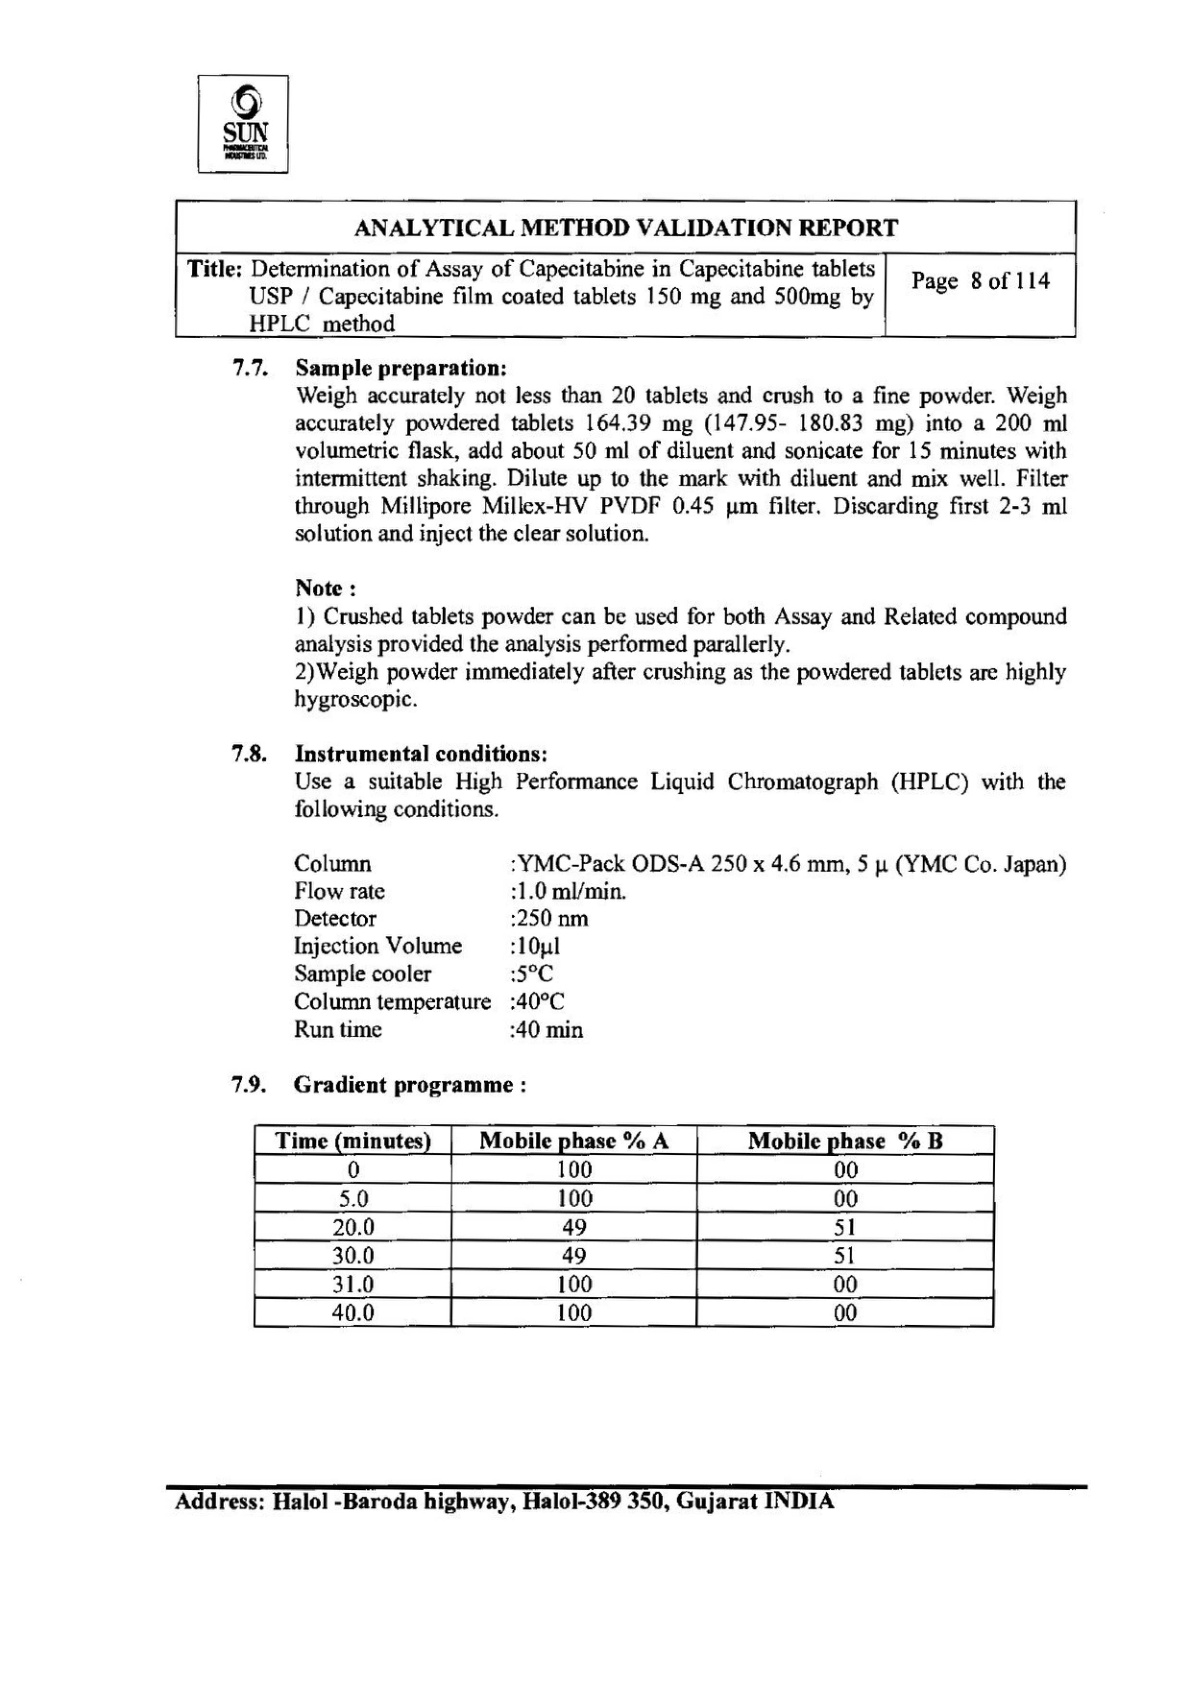full_lined: (253, 1122, 995, 1329)
merged_cells: (174, 198, 1076, 339)
nolines: (291, 851, 1067, 1041)
